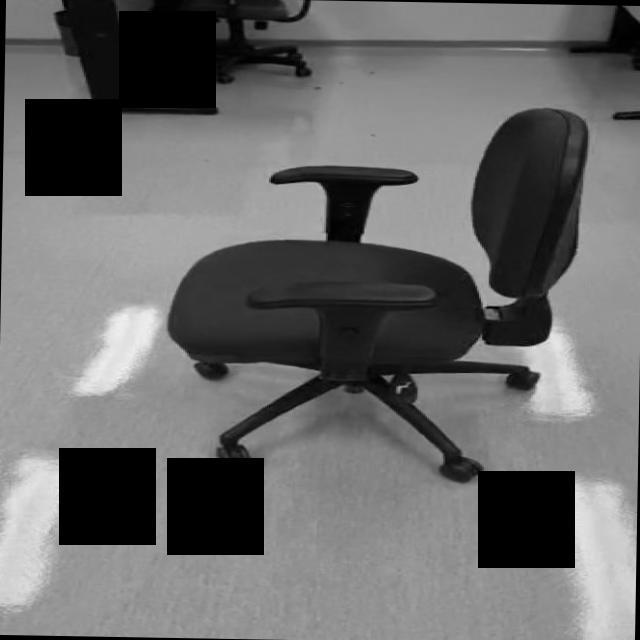chair: (162, 100, 588, 484)
